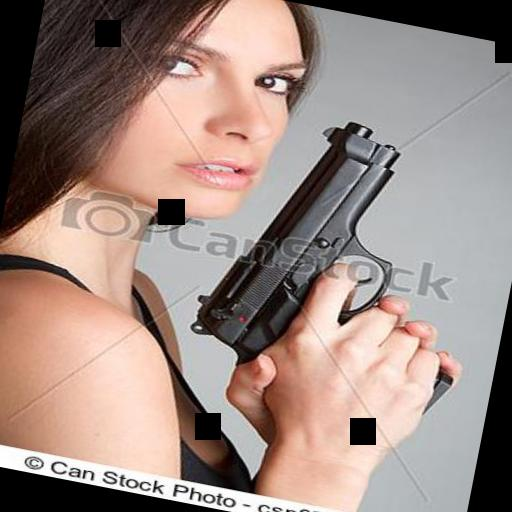Handgun: (181, 93, 499, 426)
